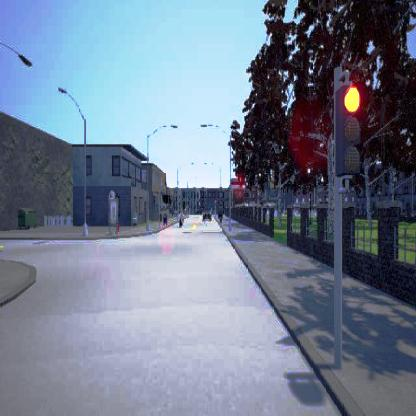bike: (178, 211, 184, 227)
vehicle: (201, 207, 212, 221)
